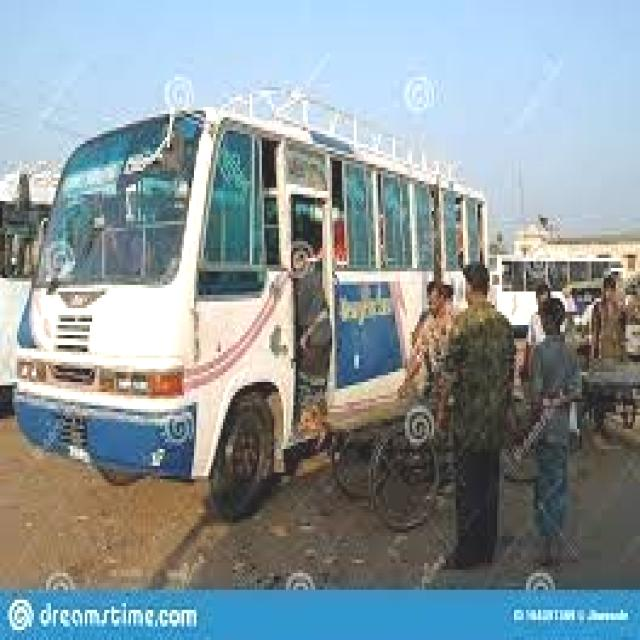bus: (9, 77, 527, 531)
